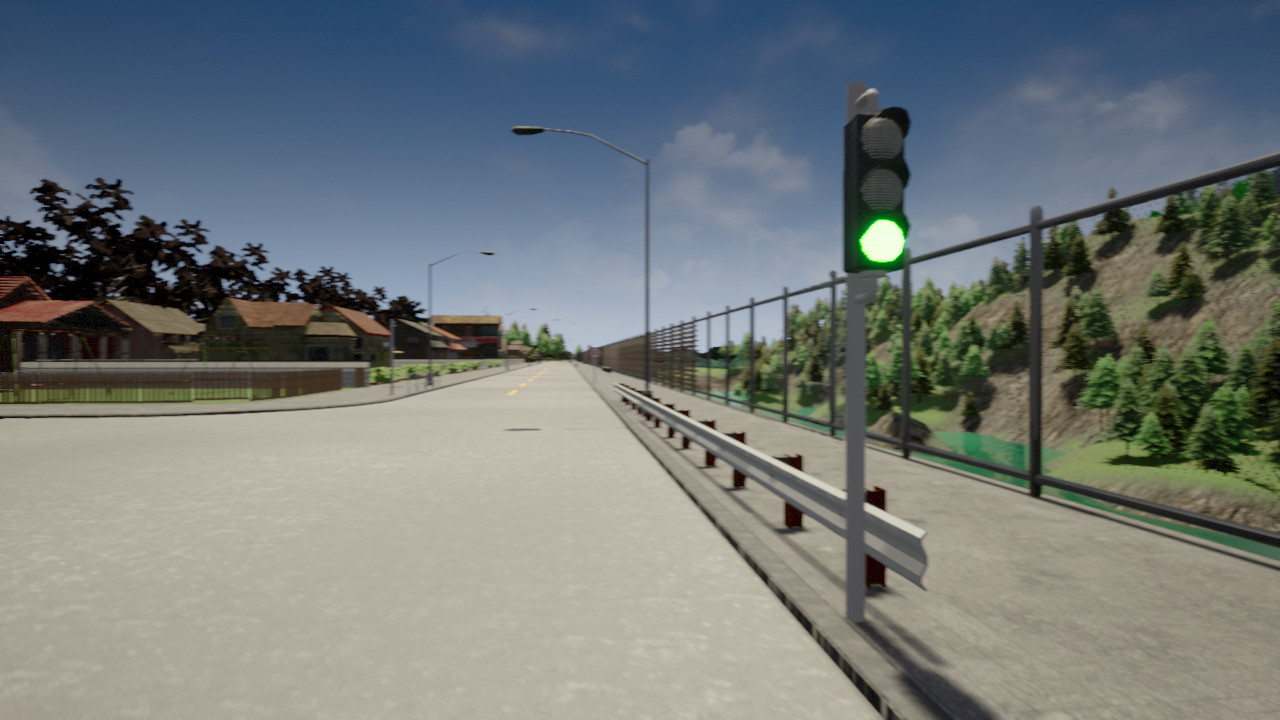green: (850, 101, 912, 276)
